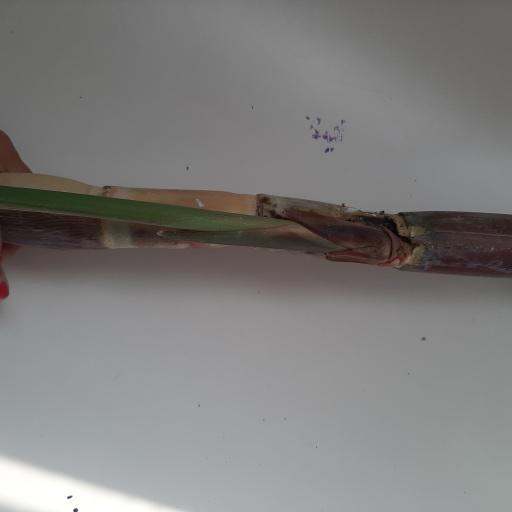Sprouted_Bud: (341, 231, 415, 264)
